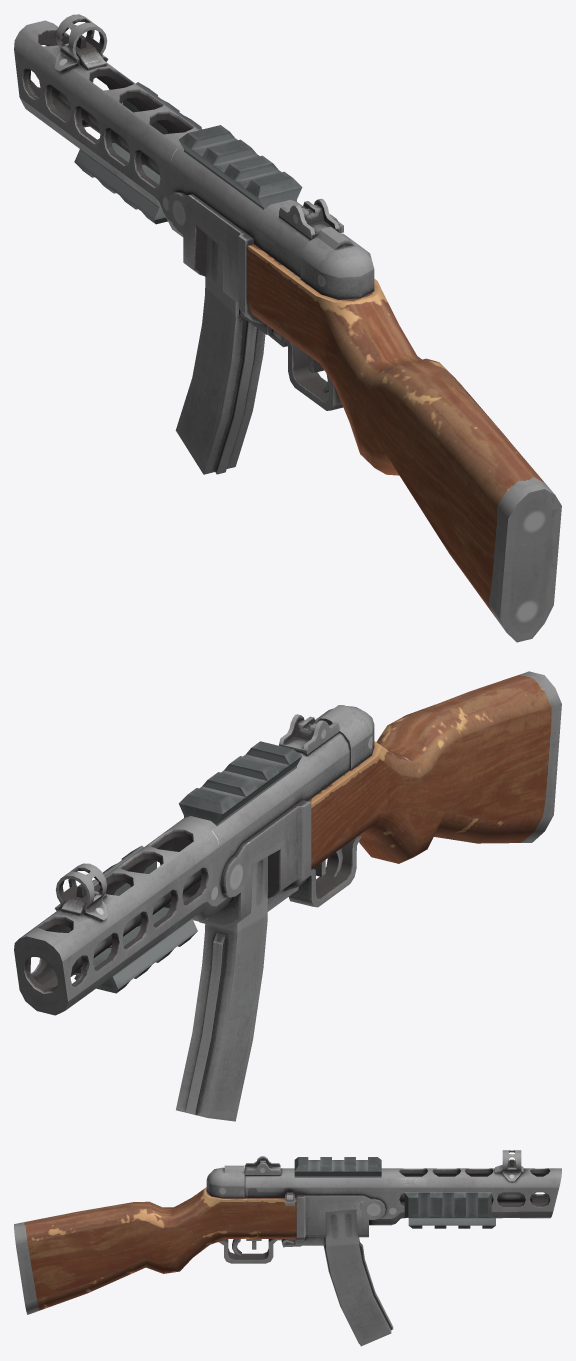
Rendered from IG_Gun_PPSH.fbx.
The picture shows the model from 3 angles, top to bottom: view 1: azimuth 30°, elevation 25°; view 2: azimuth 150°, elevation 25°; view 3: azimuth 270°, elevation 25°; orthographic projection. The views are drawn at different scales.
Parts seen in each view (by area): view 1: Pfb_WPN_PPSH, ShowIf_Scope, ShowIf_Grip; view 2: Pfb_WPN_PPSH, ShowIf_Scope, ShowIf_Grip; view 3: Pfb_WPN_PPSH, ShowIf_Tec, ShowIf_Scope, ShowIf_Grip.
Boxes of the visible parts, box(x1,y1,x2,y2) form: Pfb_WPN_PPSH: box(14, 14, 561, 642); ShowIf_Scope: box(179, 125, 302, 209); ShowIf_Grip: box(74, 140, 167, 224); Pfb_WPN_PPSH: box(14, 671, 561, 1121); ShowIf_Scope: box(178, 741, 301, 825); ShowIf_Grip: box(74, 907, 197, 993); Pfb_WPN_PPSH: box(14, 1150, 561, 1346); ShowIf_Tec: box(404, 1192, 491, 1217); ShowIf_Scope: box(294, 1157, 381, 1177); ShowIf_Grip: box(408, 1217, 495, 1228).
Bounding box in the file's own units: 0.1063 × 0.4054 × 1.05.
